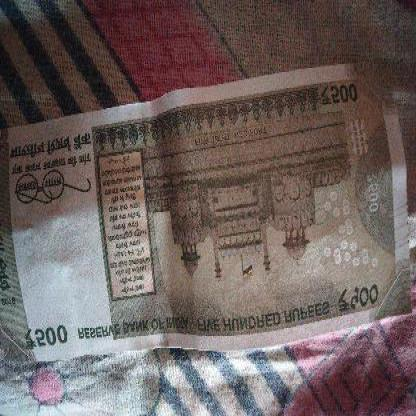New500Back: (1, 69, 405, 358)
